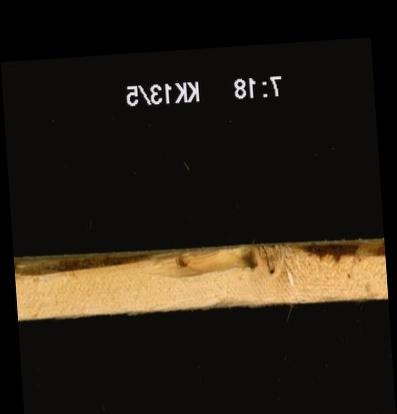wave: (12, 242, 383, 275)
